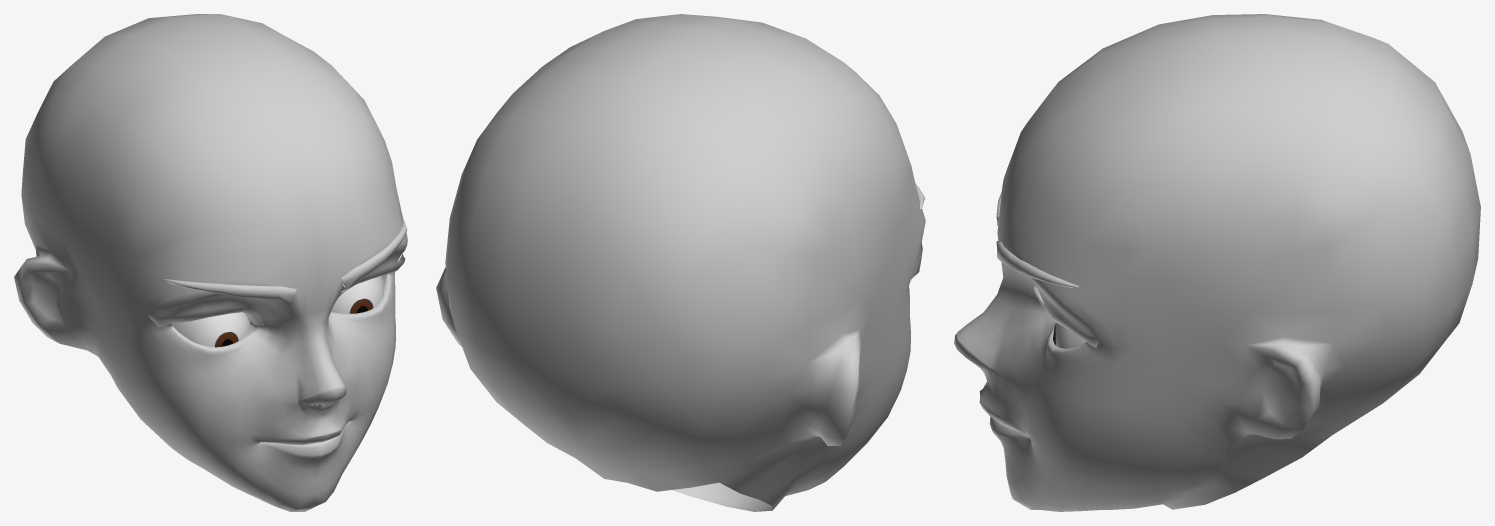
File: FaceMorph.FBX
The picture shows the model from 3 angles, left to right: view 1: azimuth 30°, elevation 25°; view 2: azimuth 150°, elevation 25°; view 3: azimuth 270°, elevation 25°; orthographic projection. The views are drawn at different scales.
Visible parts, largest first — view 1: FM_Head002, FM_Eye, FM_MMao001; view 2: FM_Head002; view 3: FM_Head002, FM_MMao001.
Part boxes in pixels (left/top/right/bottom): FM_Head002: left=14, top=14, right=407, bottom=511; FM_Eye: left=172, top=276, right=384, bottom=347; FM_MMao001: left=164, top=220, right=407, bottom=302; FM_Head002: left=436, top=14, right=925, bottom=511; FM_Head002: left=954, top=14, right=1480, bottom=511; FM_MMao001: left=996, top=192, right=1078, bottom=287.
Size of the model in its own units: 21.3 by 24.41 by 24.74.
